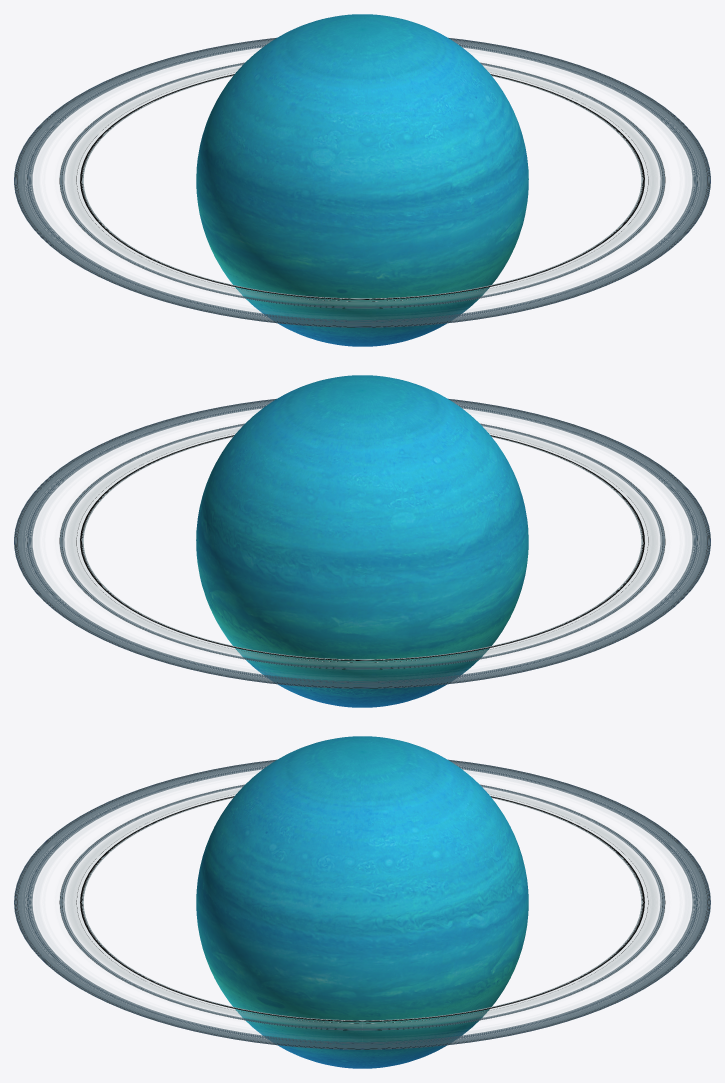
The picture shows the model from 3 angles, top to bottom: view 1: azimuth 30°, elevation 25°; view 2: azimuth 150°, elevation 25°; view 3: azimuth 270°, elevation 25°; orthographic projection.
Parts seen in each view (by area): view 1: Esfera, Plano; view 2: Esfera, Plano; view 3: Esfera, Plano.
Part boxes in pixels (bbox=[...]): Esfera: bbox=[196, 14, 528, 346]; Plano: bbox=[14, 37, 710, 327]; Esfera: bbox=[196, 375, 528, 707]; Plano: bbox=[14, 398, 710, 688]; Esfera: bbox=[196, 736, 528, 1068]; Plano: bbox=[14, 759, 710, 1049].
Size of the model in its own units: 4191 by 2000 by 4191.
Materials: 2 (2 with a texture image).
